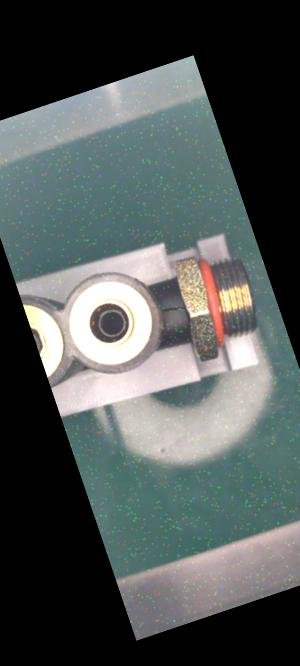craze: (159, 300, 184, 317)
